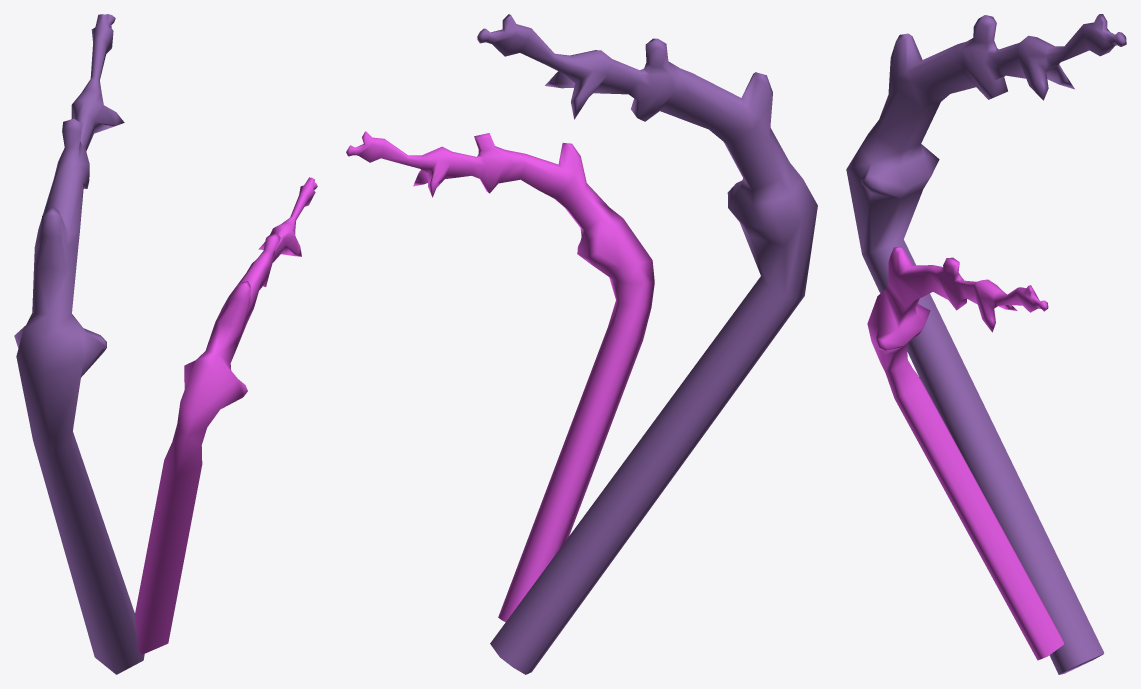
Rendered from coral tree.fbx.
3 renders of one model, left to right at view 1: azimuth 30°, elevation 25°; view 2: azimuth 150°, elevation 25°; view 3: azimuth 270°, elevation 25°, orthographic. The views are drawn at different scales.
Visible parts, largest first — view 1: polySurface167, polySurface166; view 2: polySurface167, polySurface166; view 3: polySurface167, polySurface166.
Part boxes in pixels (x1=…): polySurface167: x1=14, y1=14, x2=144, y2=674; polySurface166: x1=135, y1=177, x2=317, y2=654; polySurface167: x1=477, y1=14, x2=817, y2=674; polySurface166: x1=346, y1=131, x2=654, y2=621; polySurface167: x1=846, y1=14, x2=1126, y2=674; polySurface166: x1=867, y1=246, x2=1063, y2=660.
Bounding box in the file's own units: 22.31 × 37.26 × 14.32.
